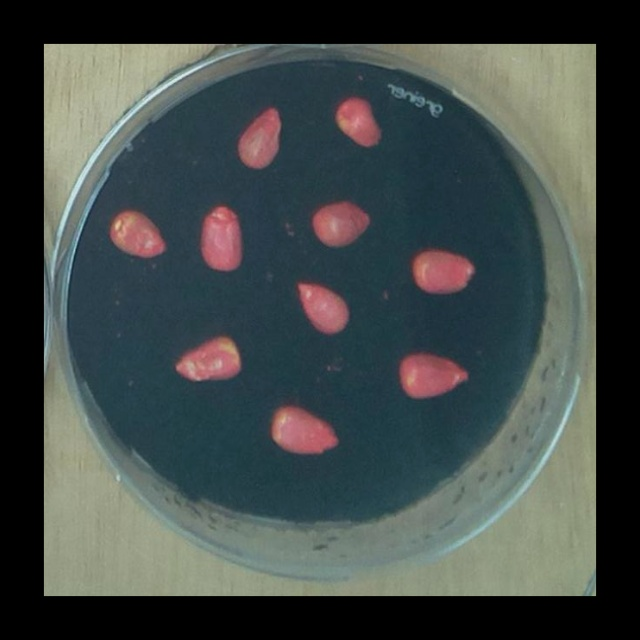Zea mays: (263, 398, 345, 462), (392, 345, 476, 405), (169, 330, 248, 389), (289, 272, 357, 339), (193, 198, 248, 277), (407, 244, 483, 301), (104, 201, 173, 263), (231, 101, 288, 175), (305, 196, 376, 254), (328, 90, 388, 156)
